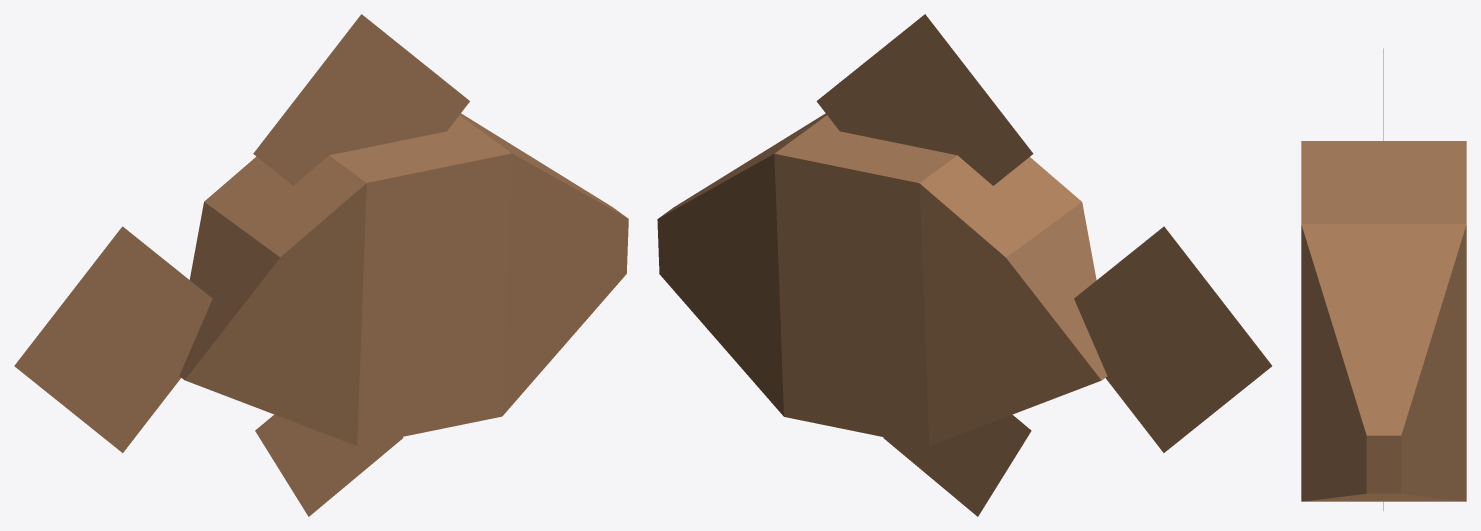
The model's file is Fish.fbx.
The picture shows the model from 3 angles, left to right: view 1: azimuth 30°, elevation 25°; view 2: azimuth 150°, elevation 25°; view 3: azimuth 270°, elevation 25°; orthographic projection. The views are drawn at different scales.
Visible parts, largest first — view 1: Fish; view 2: Fish; view 3: Fish.
Boxes of the visible parts, <box> form: Fish: <box>14,14,628,516</box>; Fish: <box>657,14,1271,516</box>; Fish: <box>1301,48,1466,510</box>.
Size of the model in its own units: 1.18 by 0.9125 by 0.2574.
